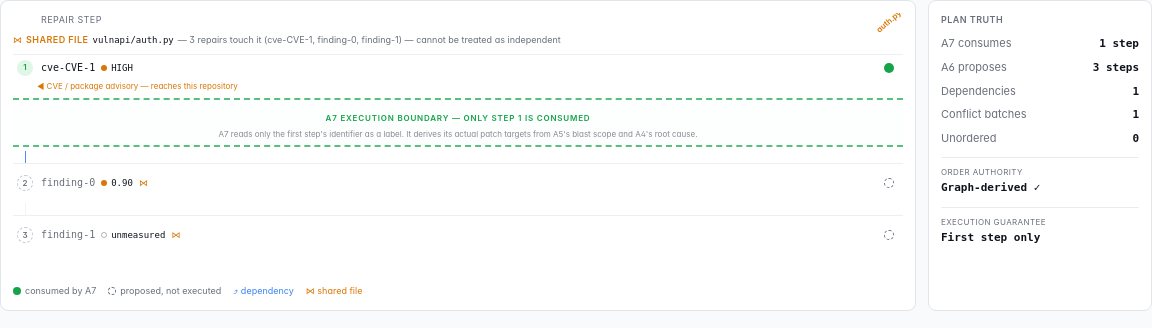
Test: RepairImpactMap — file interaction › shows how many repairs touch a hovered file
Hover over the button titled "vulnapi/auth.py".
mouse_move(889, 21)  # box x1=875 y1=15 x2=903 y2=27
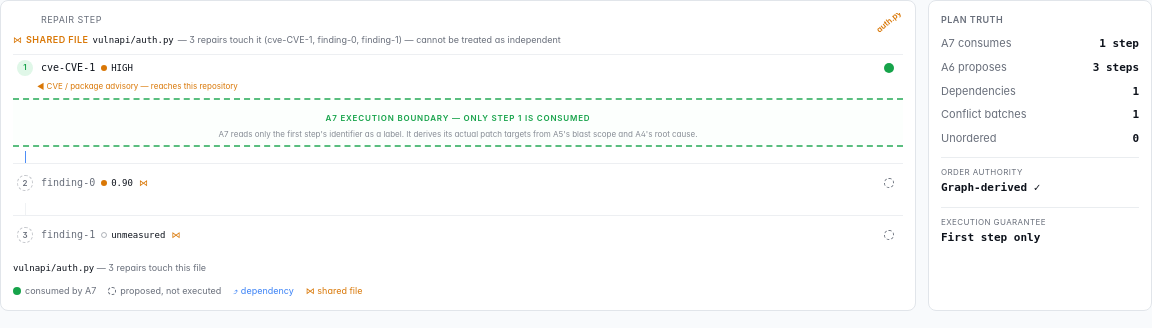
Now the text "vulnapi/auth.py — 3 repairs touch this file" is shown, box x1=13 y1=262 x2=206 y2=273
